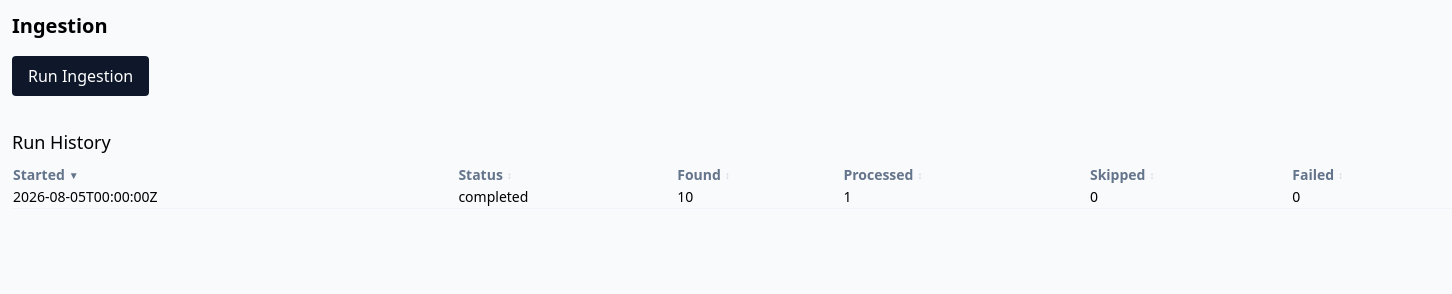
Test case: IngestionPage probable-duplicate files (Epic 14) › shows the raw outcome rather than a dead link if a skipped file somehow has no comparison to open
Click the row with test id "run-history-row-run-1": (732, 197) [12, 186, 1451, 208]
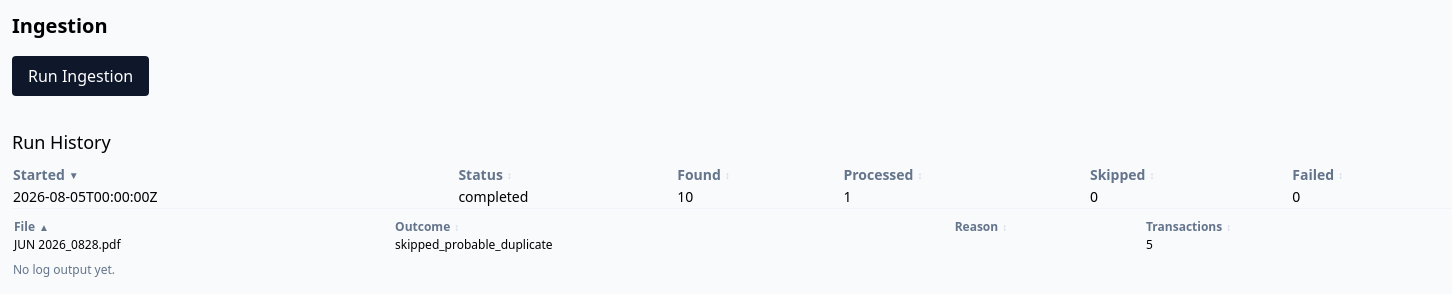
Result: the text "skipped_probable_duplicate" is shown at [394, 236, 954, 254]
